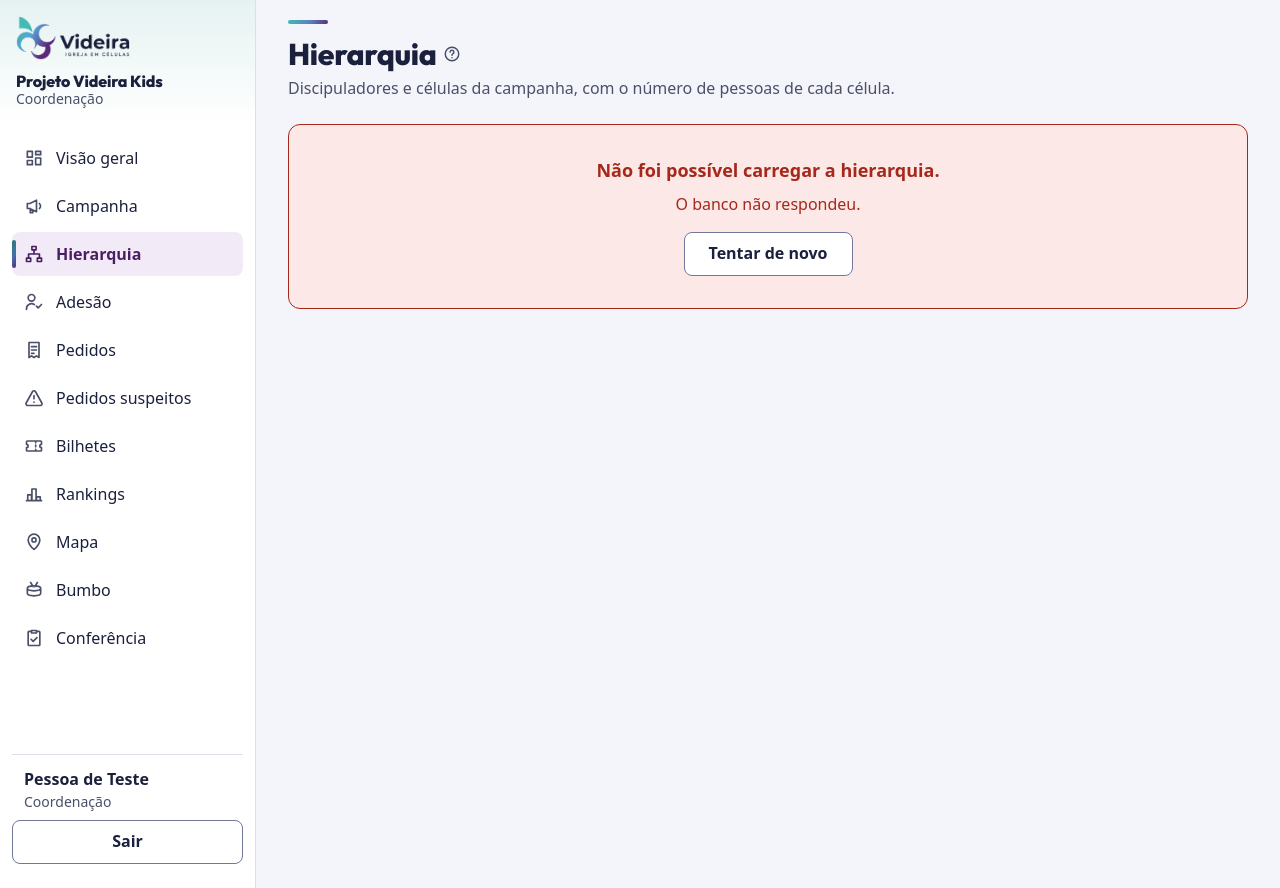
Test: CA1: visão da hierarquia › mostra o erro da API ao carregar e tenta de novo
Expected: the message shows "Não foi possível carregar a hierarquia.", 596,158 -> 940,182
Expected: the message shows "O banco não respondeu.", 676,193 -> 860,215
Click the button "Tentar de novo".
click(768, 254)  # box 684,232 -> 852,276
(page scrolled)
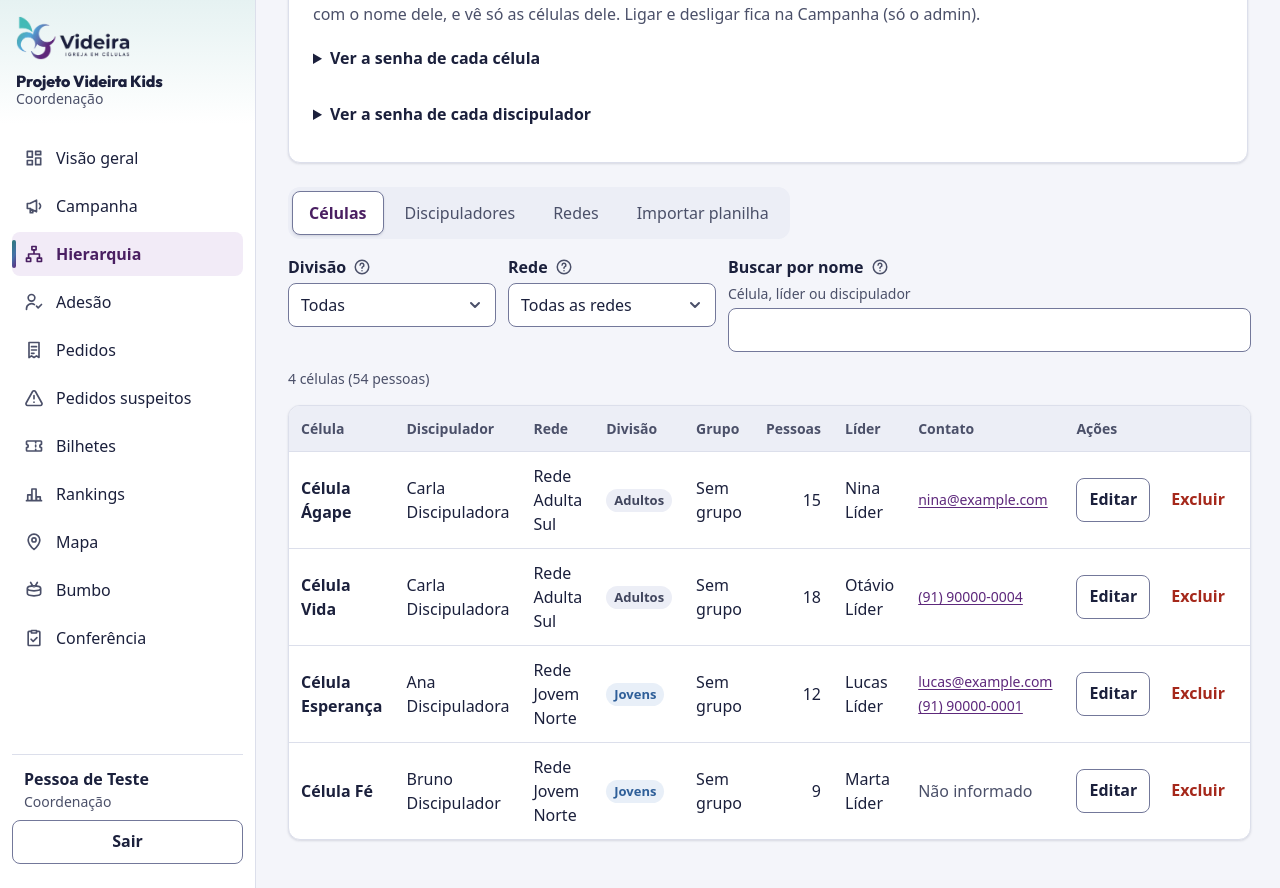
Expected: the table named "Células" is shown, 289,406 -> 1250,838
